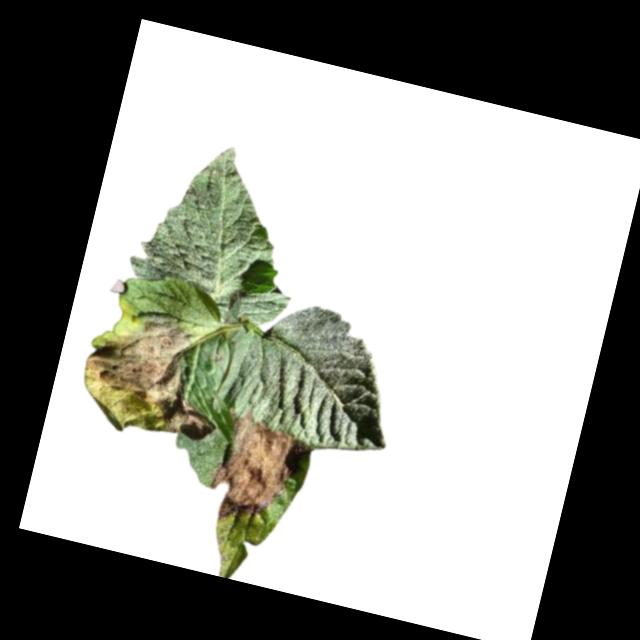Late_blight: (72, 299, 241, 453), (202, 407, 301, 535)
healthy: (120, 128, 322, 333), (222, 290, 417, 462)
